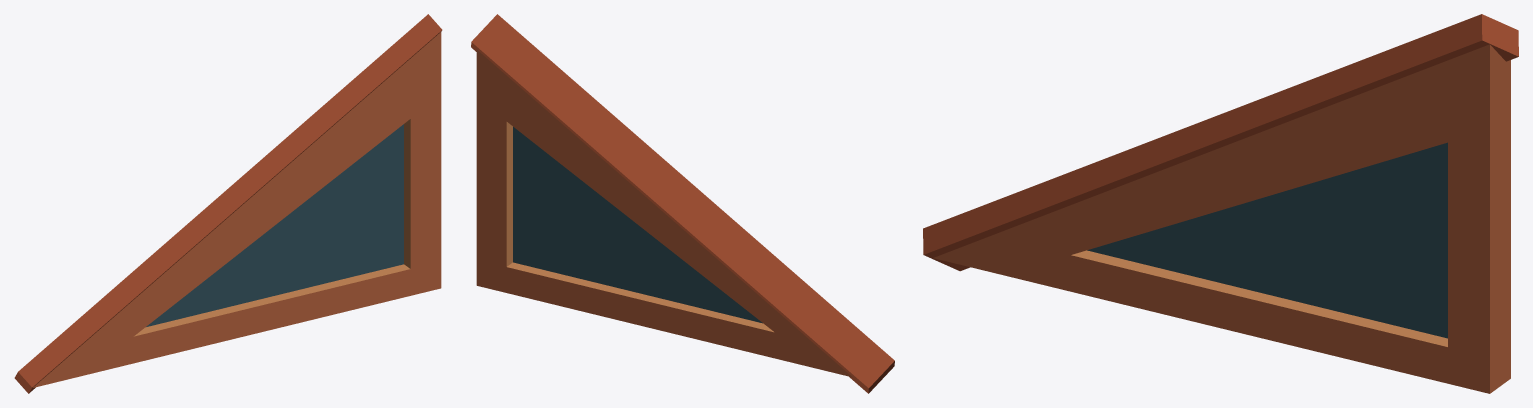
The model's file is hall_sawtooth_gable.glb.
The picture shows the model from 3 angles, left to right: view 1: azimuth 30°, elevation 25°; view 2: azimuth 150°, elevation 25°; view 3: azimuth 330°, elevation 25°; orthographic projection. The views are drawn at different scales.
Parts seen in each view (by area): view 1: gable; view 2: gable; view 3: gable.
Boxes of the visible parts, <box> form: gable: <box>14,14,442,393</box>; gable: <box>471,14,894,393</box>; gable: <box>923,14,1518,393</box>.
Size of the model in its own units: 4.18 by 2.71 by 0.3753.
